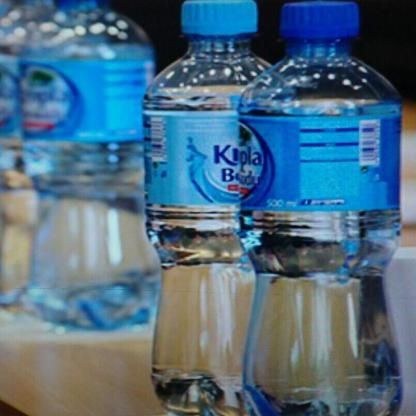plastic_bottle: (240, 5, 406, 416), (147, 1, 273, 411), (1, 1, 158, 327)
